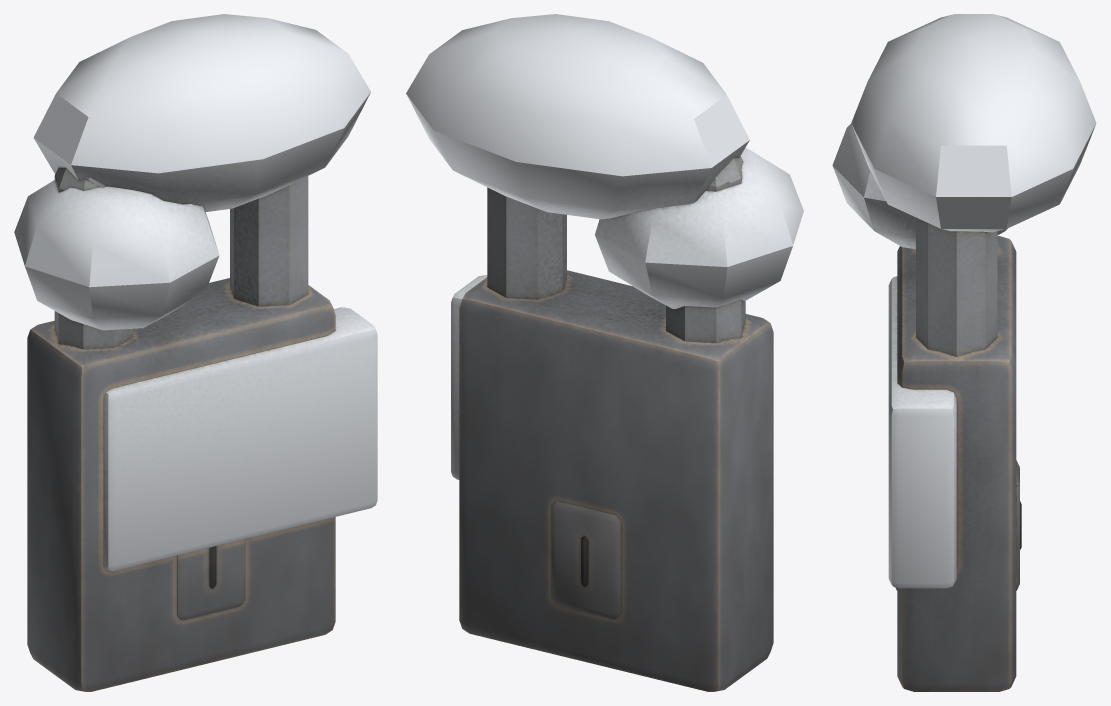
File: frozen_padlock.glb
3 renders of one model, left to right at view 1: azimuth 30°, elevation 25°; view 2: azimuth 150°, elevation 25°; view 3: azimuth 270°, elevation 25°, orthographic.
Parts seen in each view (by area): view 1: frozen_padlock; view 2: frozen_padlock; view 3: frozen_padlock.
Boxes of the visible parts, x1,y1,x2,y2 form: frozen_padlock: [14, 14, 377, 691]; frozen_padlock: [406, 14, 803, 691]; frozen_padlock: [832, 14, 1096, 691].
Size of the model in its own units: 0.1179 by 0.197 by 0.0775.
Materials: 1 (1 with a texture image).
